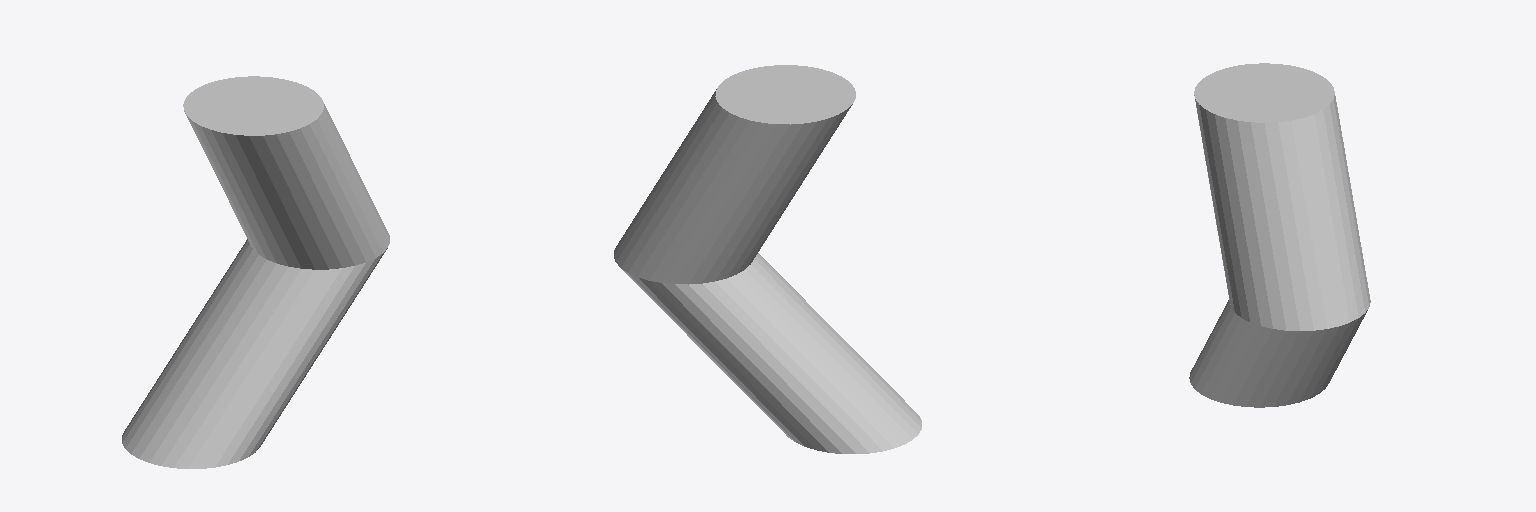
File: asteroid_1.obj
The picture shows the model from 3 angles: view 1: azimuth 30°, elevation 25°; view 2: azimuth 150°, elevation 25°; view 3: azimuth 270°, elevation 25°; orthographic projection.
Visible parts, largest first — view 1: Cylinder; view 2: Cylinder; view 3: Cylinder.
Part boxes in pixels (x1,y1,x2,y2): Cylinder: (122,76,389,468); Cylinder: (614,65,921,453); Cylinder: (1189,63,1370,407).
Bounding box in the file's own units: 4.42 × 4.94 × 2.57.